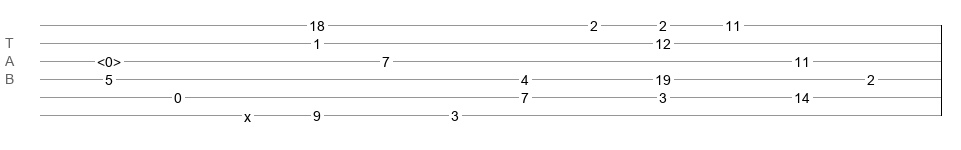0: (174, 90, 182, 100)
1: (313, 36, 321, 46)
11: (725, 18, 741, 28), (794, 54, 810, 64)
12: (655, 36, 671, 46)
14: (794, 90, 810, 100)
18: (309, 18, 325, 28)
19: (655, 72, 671, 82)
2: (590, 18, 598, 28), (659, 18, 667, 28), (867, 72, 875, 82)
3: (451, 108, 459, 118), (659, 90, 667, 100)
4: (521, 72, 529, 82)
5: (105, 72, 113, 82)
7: (382, 54, 390, 64), (521, 90, 529, 100)
9: (313, 108, 321, 118)
harmonic: (97, 54, 121, 64)
x: (244, 109, 251, 117)
